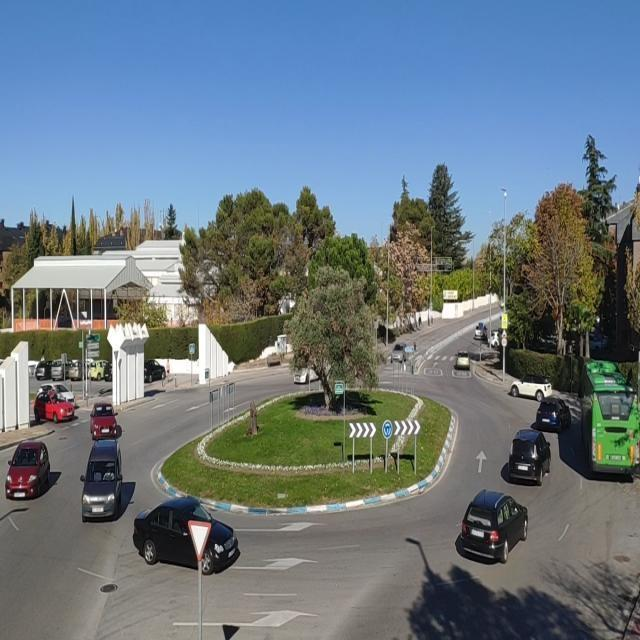Bus: (578, 360, 640, 478)
Car: (134, 496, 238, 574), (460, 491, 529, 563), (80, 442, 123, 522), (3, 438, 51, 502), (507, 429, 551, 483), (30, 393, 77, 423), (536, 397, 571, 430), (509, 375, 552, 401), (91, 403, 119, 439), (390, 342, 408, 364), (454, 350, 470, 369)
